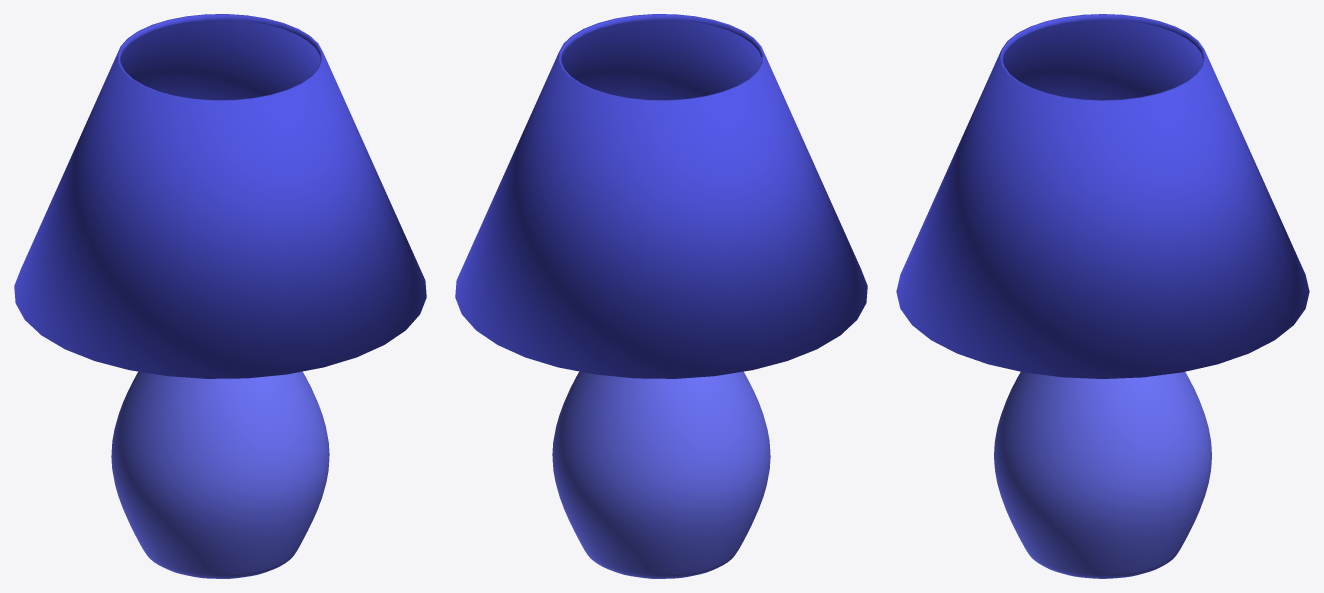
File: Lamp2.gltf
3 renders of one model, left to right at view 1: azimuth 30°, elevation 25°; view 2: azimuth 150°, elevation 25°; view 3: azimuth 270°, elevation 25°, orthographic.
Parts seen in each view (by area): view 1: Lampshade; view 2: Lampshade; view 3: Lampshade.
Part boxes in pixels (left/top/right/bottom): Lampshade: left=14, top=14, right=426, bottom=578; Lampshade: left=455, top=14, right=867, bottom=578; Lampshade: left=896, top=14, right=1309, bottom=578.
Size of the model in its own units: 0.3834 by 0.5024 by 0.3834.
